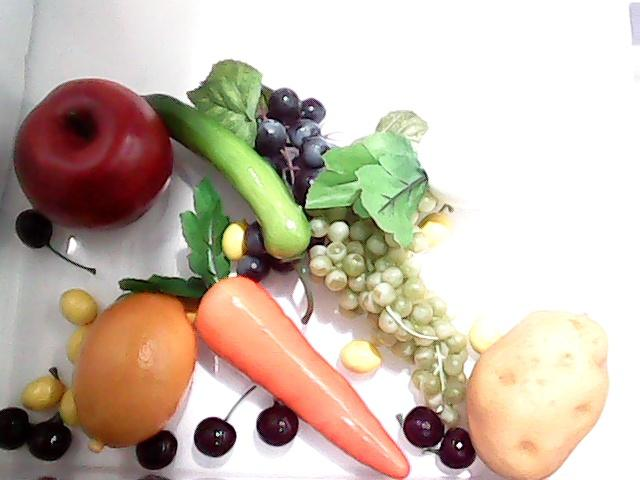apple: (11, 74, 178, 230)
carrot: (117, 175, 410, 480)
grape: (304, 216, 464, 433), (232, 80, 328, 280)
lemon: (70, 278, 202, 456)
pepper: (120, 89, 320, 263)
potato: (464, 308, 608, 480)
radish: (304, 90, 640, 248)
